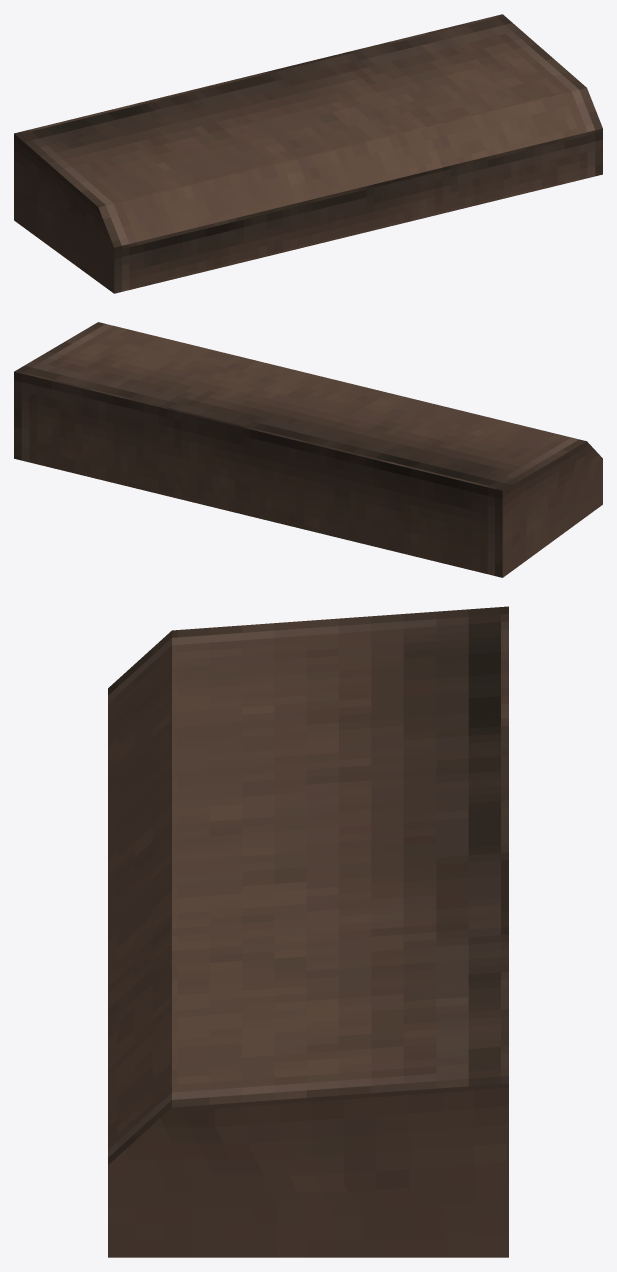
File: wood_windowsil.glb
The picture shows the model from 3 angles, top to bottom: view 1: azimuth 30°, elevation 25°; view 2: azimuth 150°, elevation 25°; view 3: azimuth 270°, elevation 25°; orthographic projection. The views are drawn at different scales.
Visible parts, largest first — view 1: wood_windowsil; view 2: wood_windowsil; view 3: wood_windowsil.
Boxes of the visible parts, box(x1,y1,x2,y2) form: wood_windowsil: box(14, 14, 602, 293); wood_windowsil: box(14, 322, 602, 577); wood_windowsil: box(108, 606, 508, 1257).
Bounding box in the file's own units: 1.2 × 0.2041 × 0.4262.
Materials: 1 (1 with a texture image).
